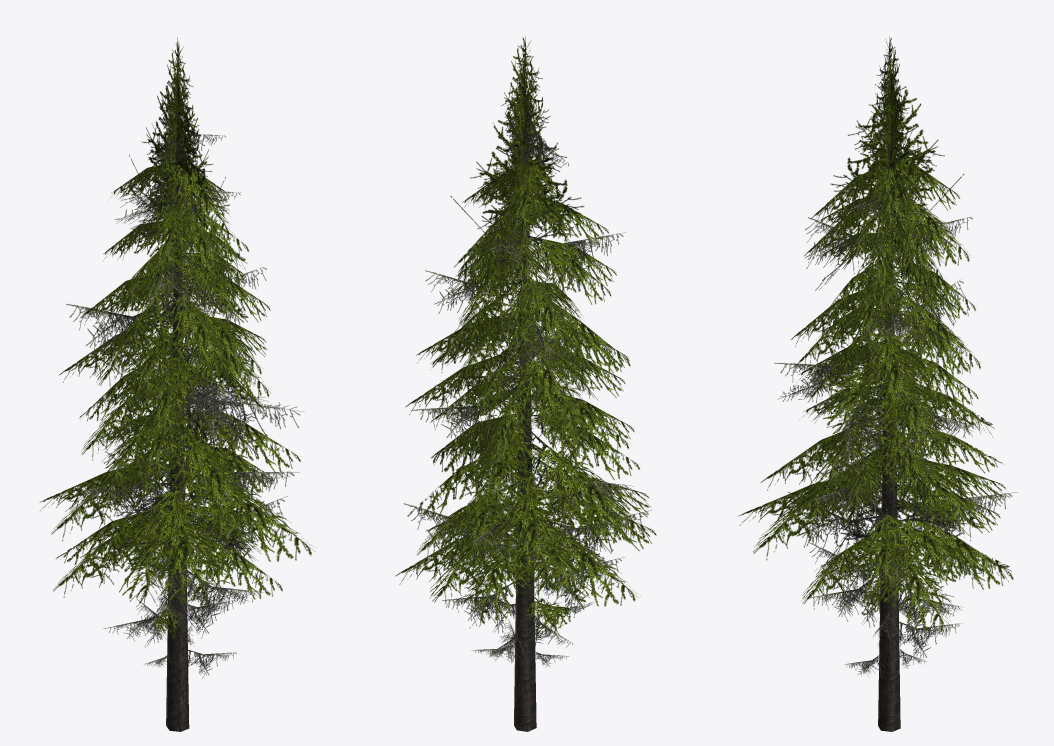
File: tree953.glb
3 renders of one model, left to right at view 1: azimuth 30°, elevation 25°; view 2: azimuth 150°, elevation 25°; view 3: azimuth 270°, elevation 25°, orthographic.
Visible parts, largest first — view 1: tree953-col; view 2: tree953-col; view 3: tree953-col.
Part boxes in pixels (left/top/right/bottom): tree953-col: left=39, top=37, right=315, bottom=731; tree953-col: left=395, top=36, right=656, bottom=731; tree953-col: left=738, top=36, right=1017, bottom=731.
Size of the model in its own units: 9.56 by 23.6 by 9.91.
Materials: 2 (2 with a texture image).
